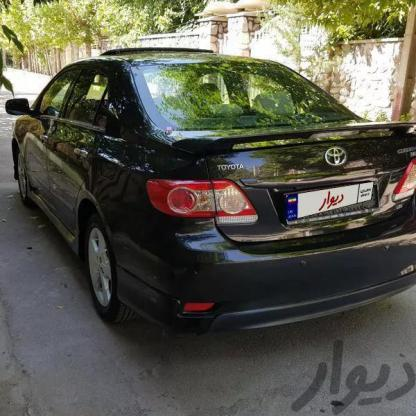Car: (0, 47, 416, 347)
